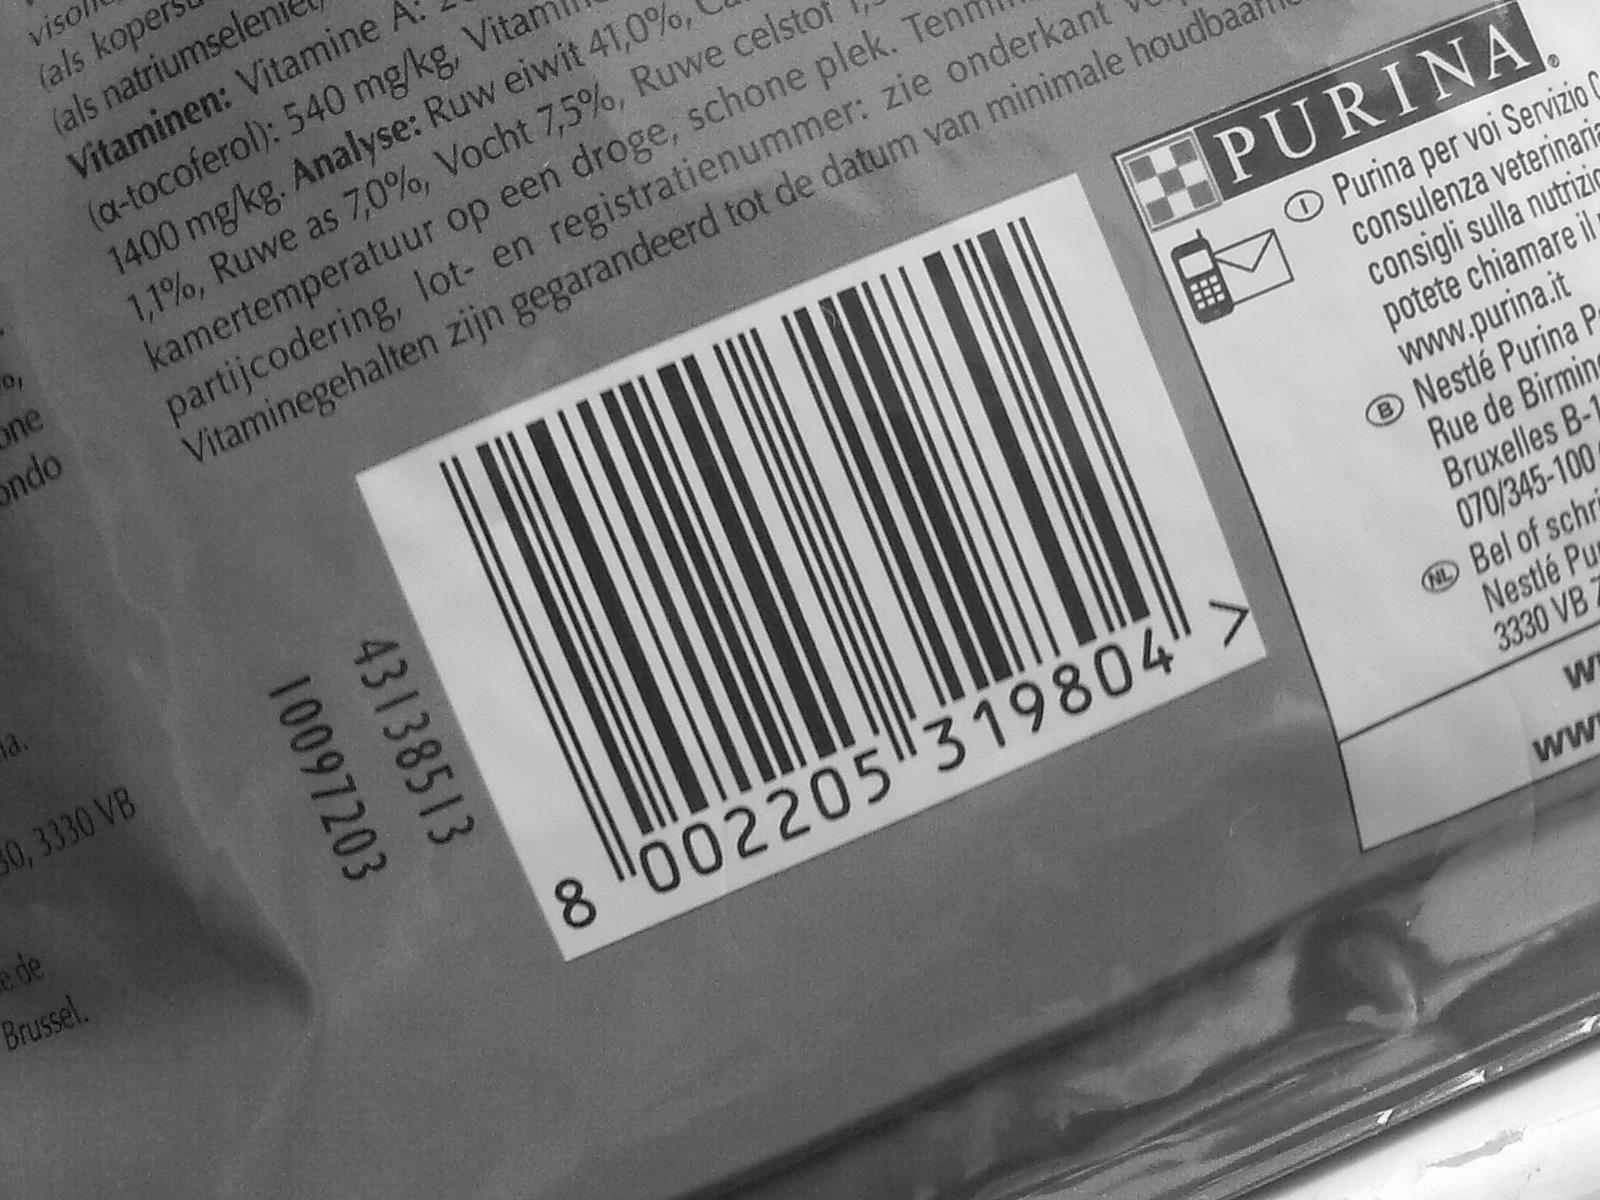Barcode: (459, 198, 1218, 856)
